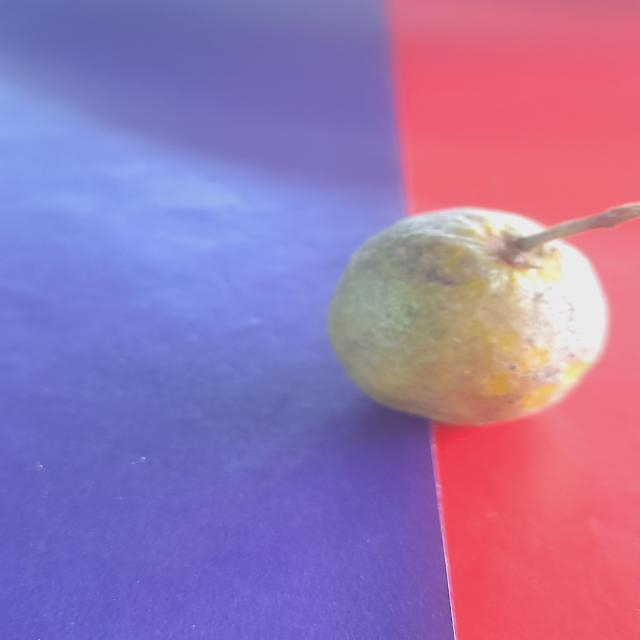thrips: (301, 218, 616, 440)
